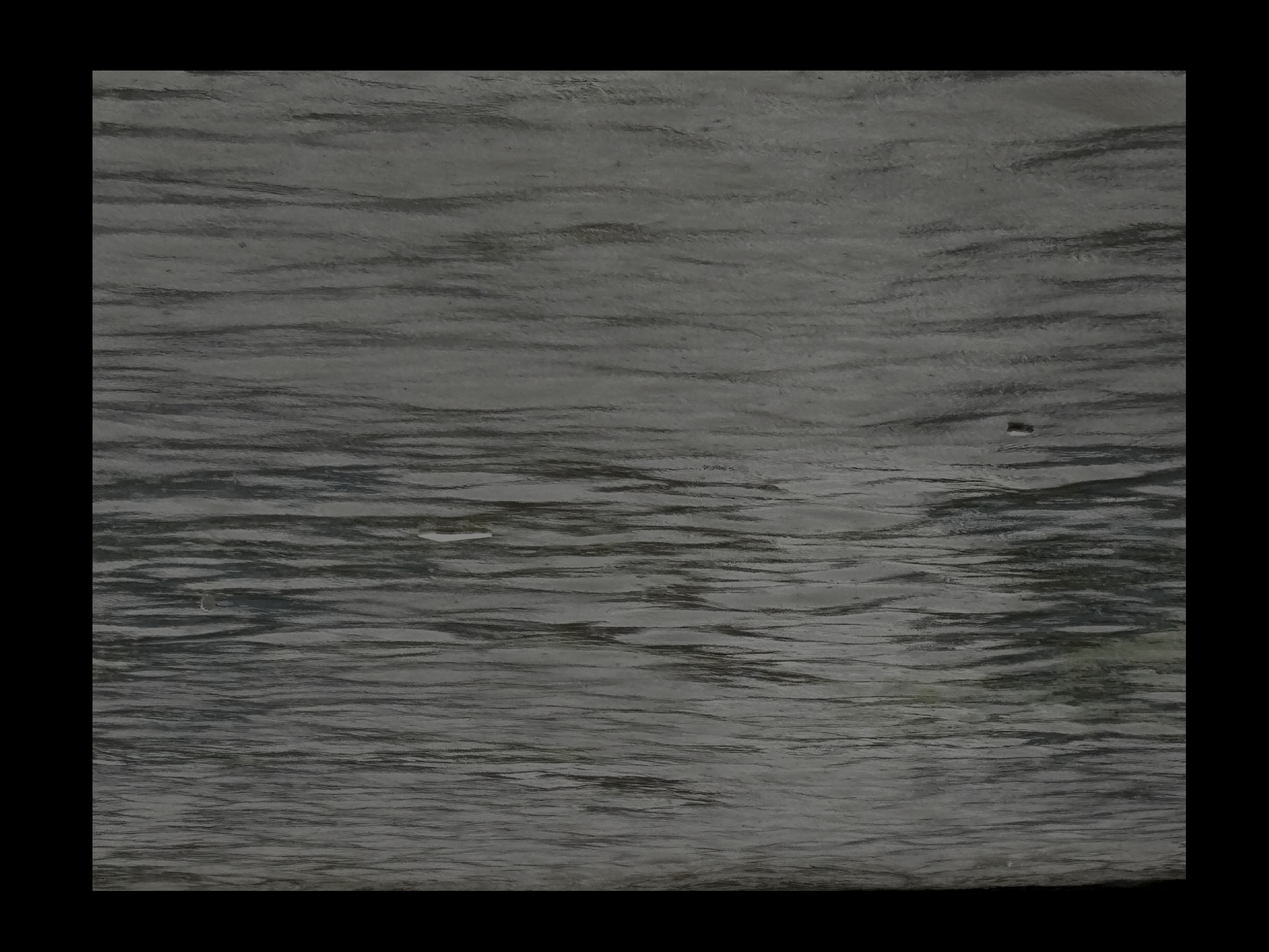Plastic wastes: (414, 516, 495, 541), (1007, 415, 1034, 434)
